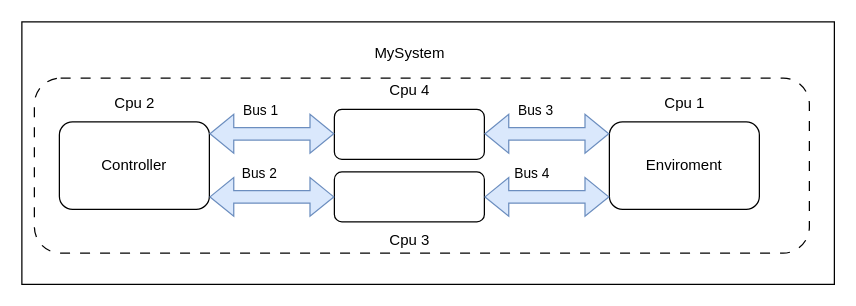
Some shapes in this 856 by 306 pixel diagram are drawn without their labels. The shapes that lost their labels are listed below. From the top down, each one's centre as x and y in pixels, then its label:
(x=408, y=133): Motor
(x=408, y=196): Sensor
